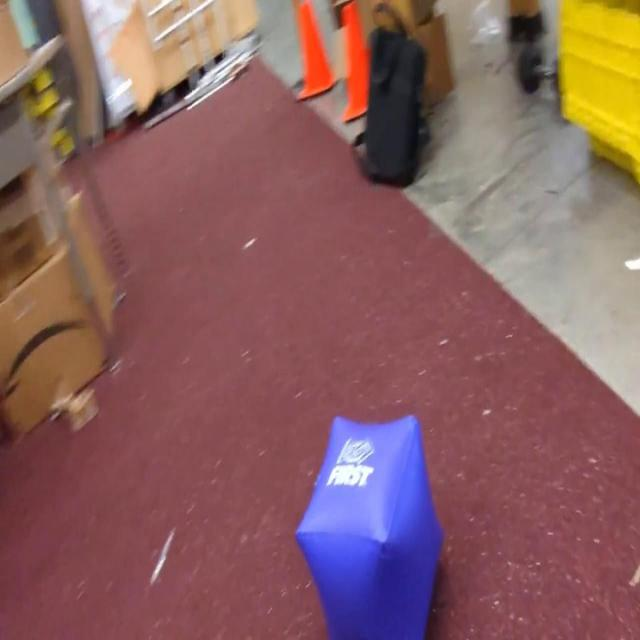frc_cube: (298, 417, 444, 638)
